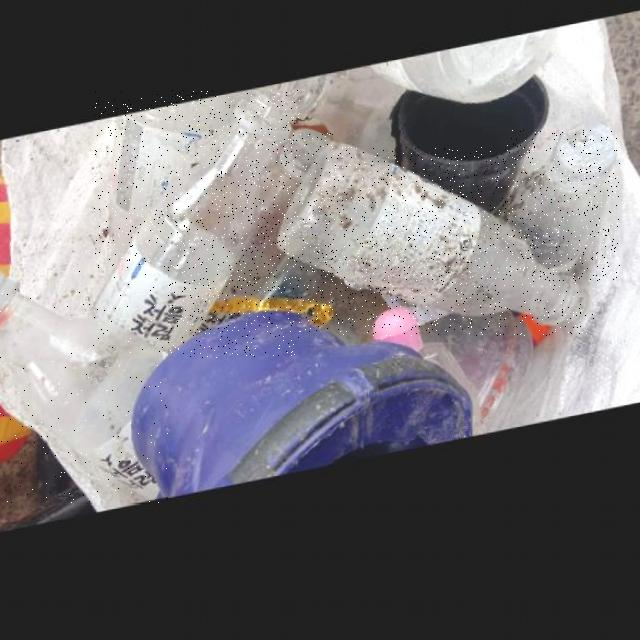plastic: (281, 148, 595, 336), (95, 90, 300, 358), (0, 269, 168, 504), (229, 133, 334, 302), (507, 131, 620, 282)
